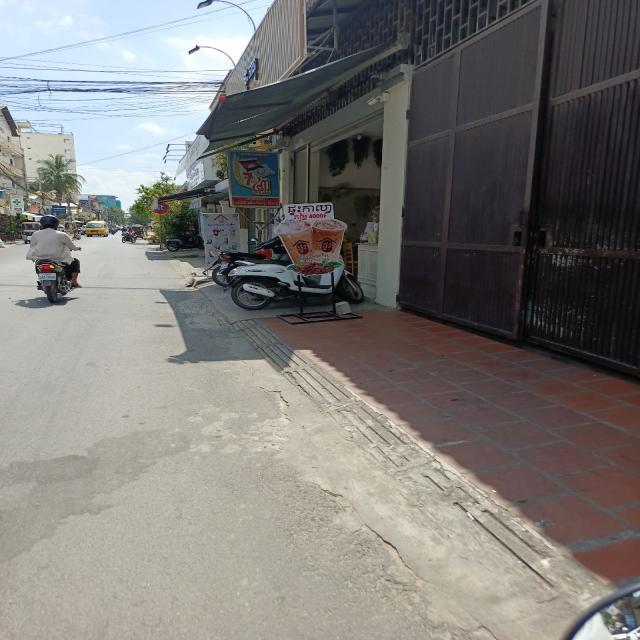750: (308, 212, 328, 220)
Yolov11kh: (287, 202, 334, 216), (291, 212, 308, 220)
